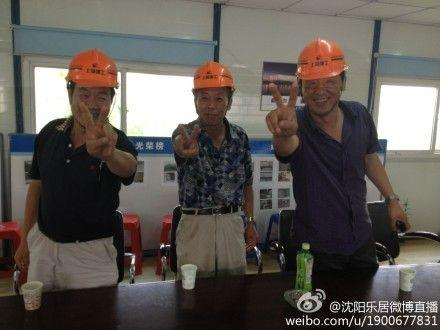helmet: (65, 50, 121, 91), (297, 38, 349, 80), (196, 60, 234, 89)
